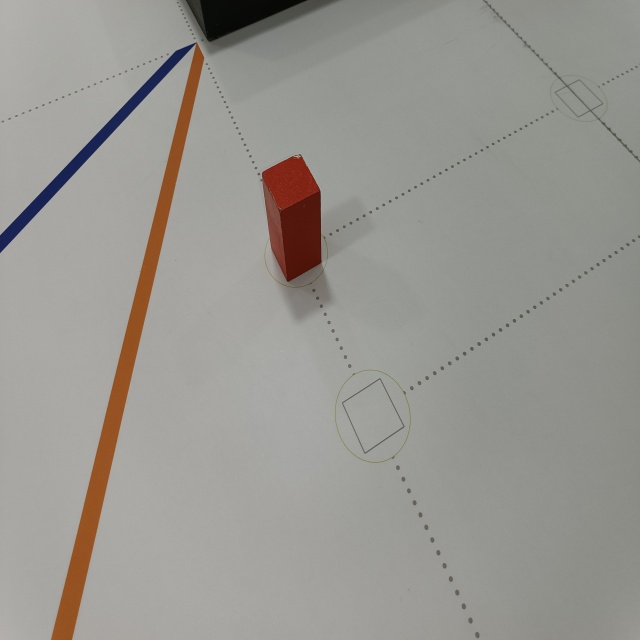blue line: (0, 40, 202, 262)
orange line: (51, 47, 211, 640)
red rectangular prism: (255, 149, 327, 283)
